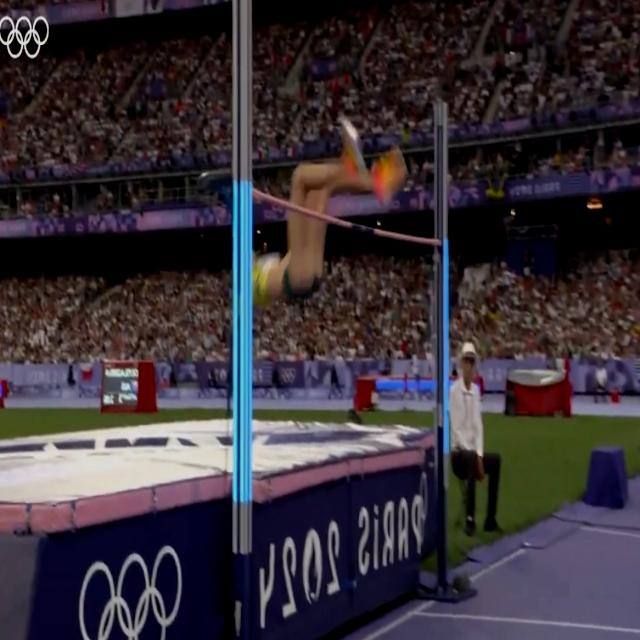land: (252, 120, 400, 304)
